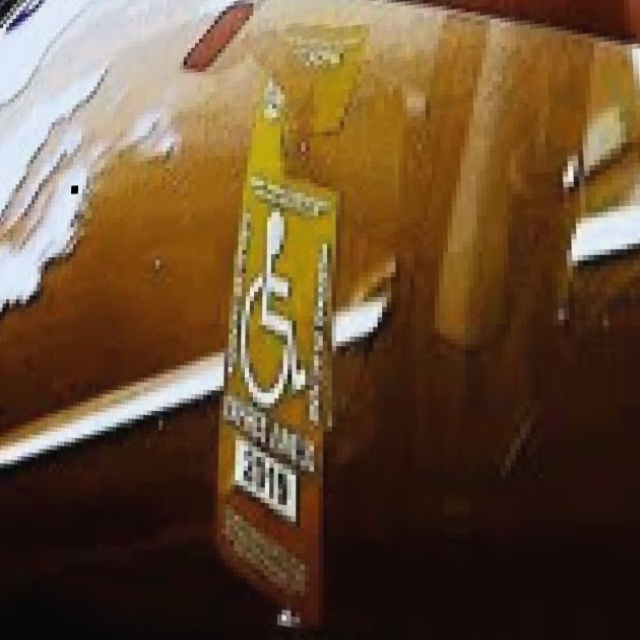ISA: (237, 200, 306, 419)
